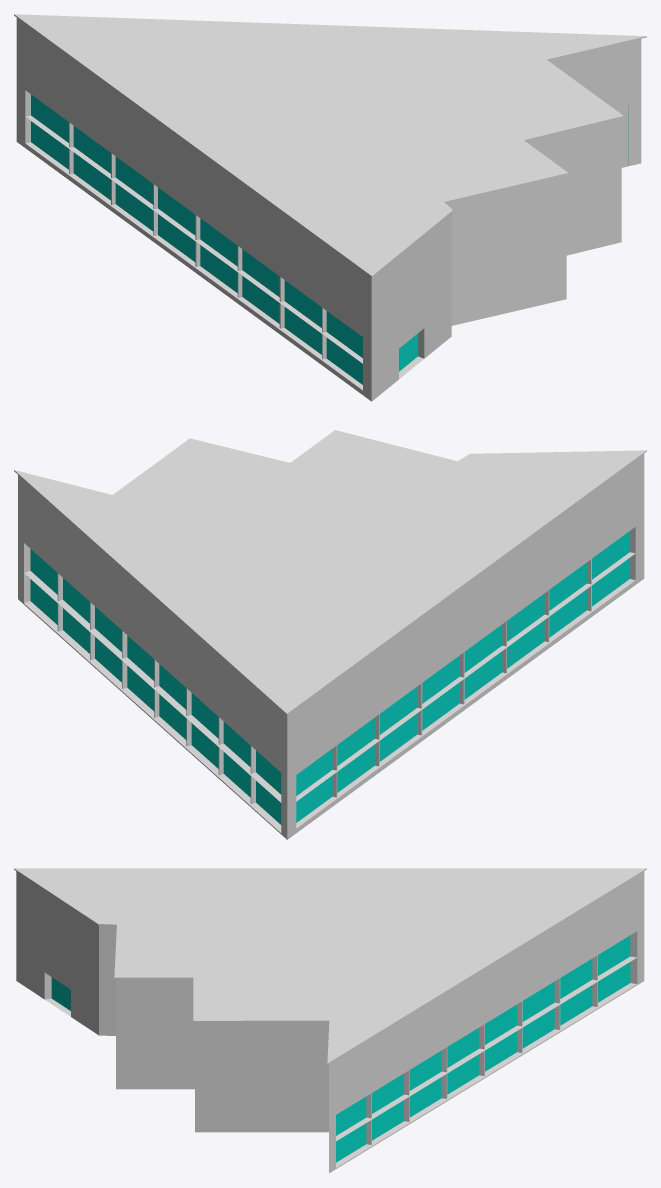
The model's file is Law School Teaching Annex.fbx.
The picture shows the model from 3 angles, top to bottom: view 1: azimuth 30°, elevation 25°; view 2: azimuth 150°, elevation 25°; view 3: azimuth 270°, elevation 25°; orthographic projection. The views are drawn at different scales.
Parts seen in each view (by area): view 1: Law School Teaching Annex; view 2: Law School Teaching Annex; view 3: Law School Teaching Annex.
Part boxes in pixels (<box>): Law School Teaching Annex: <box>14,14,646,401</box>; Law School Teaching Annex: <box>14,430,646,839</box>; Law School Teaching Annex: <box>14,868,646,1173</box>.
Size of the model in its own units: 3705 by 992 by 5080.
